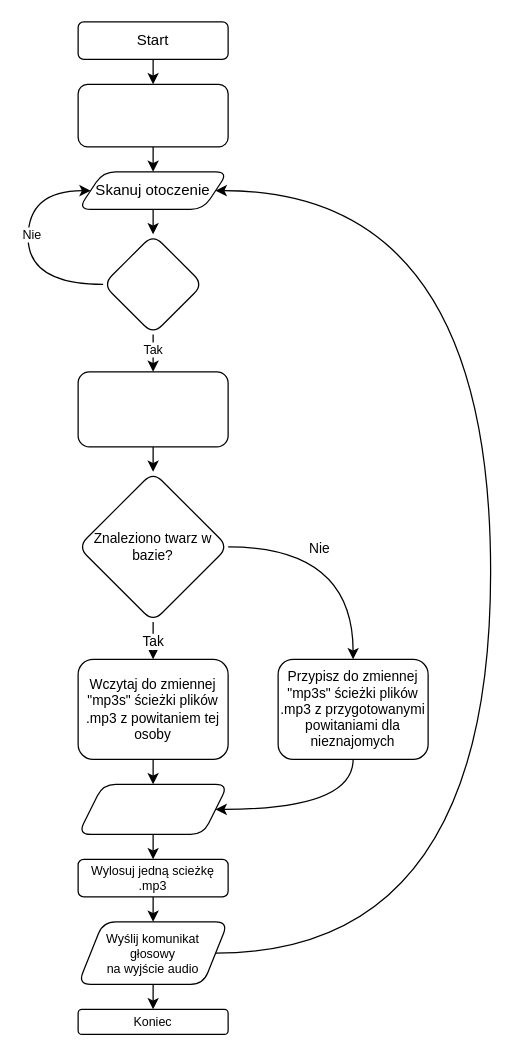
Image size: 513x1056. Some labels were removed from this diagram. The shapes that lost their labels are listed below. From the top down, each one's centre as x and y in pixels, then its label:
At (152,115): "Wczytaj zakodowane tarze z dysku".
At (152,283): "Wykryto twarz?".
At (152,409): "Koduj wykrytą twarz i porównaj z wczytanymi twarzami z dysku".
At (152,808): "Wyświetl adekwatny komunikat wizualny".
